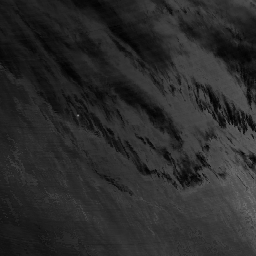Target: (75, 113, 79, 118)
